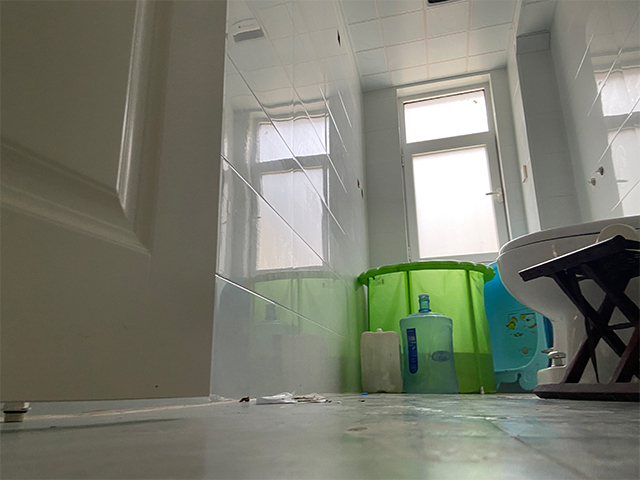closestool: (495, 214, 640, 391)
stool: (518, 234, 640, 403)
